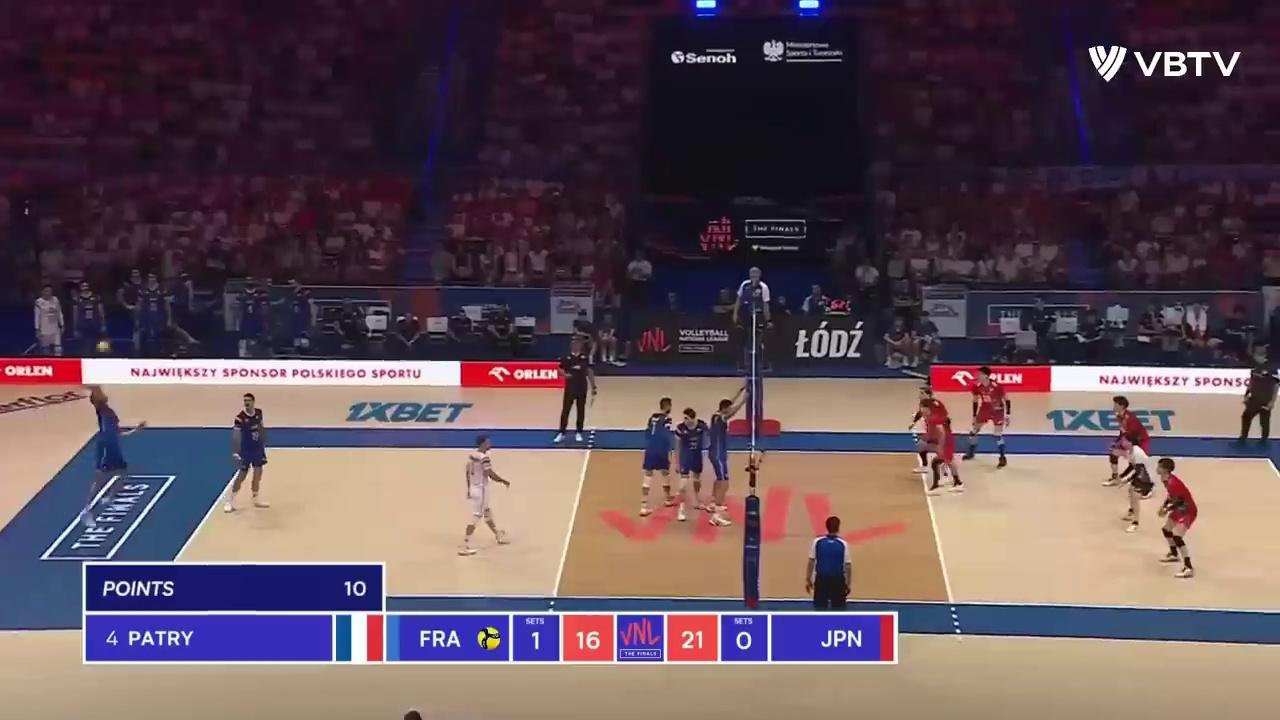ball: (95, 340, 110, 353)
